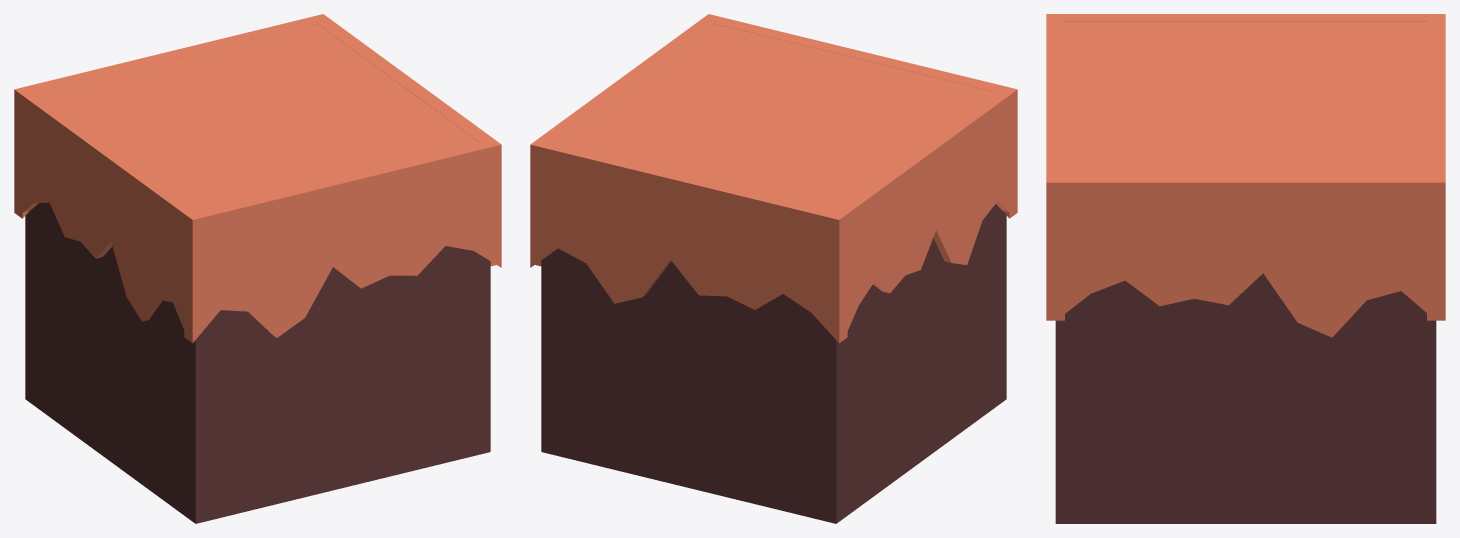
Rendered from Biom_Gras_Grasblock.fbx.
3 renders of one model, left to right at view 1: azimuth 30°, elevation 25°; view 2: azimuth 150°, elevation 25°; view 3: azimuth 270°, elevation 25°, orthographic. The views are drawn at different scales.
Visible parts, largest first — view 1: Block, Gras; view 2: Block, Gras; view 3: Block, Gras.
Part boxes in pixels (x1,y1,x2,y2): Block: (25,23,490,523); Gras: (14,14,501,343); Block: (541,23,1006,523); Gras: (530,14,1017,343); Block: (1055,22,1436,523); Gras: (1046,14,1445,337).
Bounding box in the file's own units: 105 × 100 × 105.
